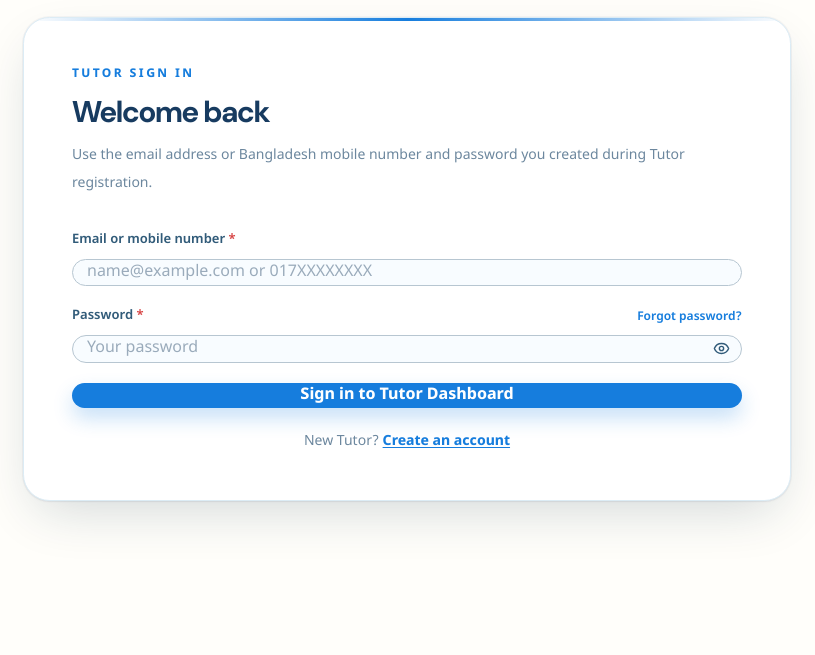
Test: Tutor sign-in transition › replaces the form with accessible Dashboard-entry feedback while the hand-off is pending
This screenshot has width=815, height=655.
Type "tutor@example.com" into the field labelled "Email or mobile number *" at (407, 273), box [72,259,742,286]
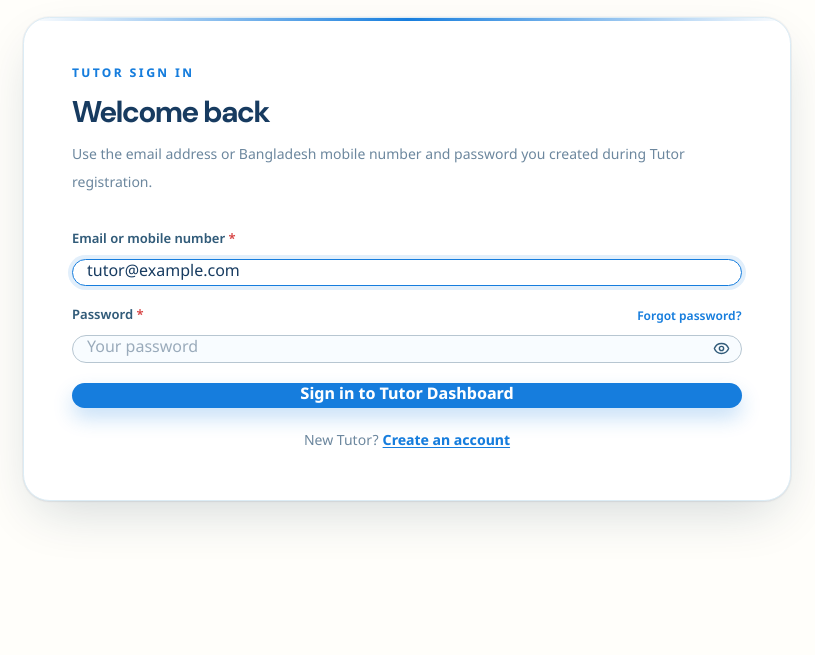
Type "correct-password" into the password field labelled "Password *" at (407, 349), box [72,335,742,363]
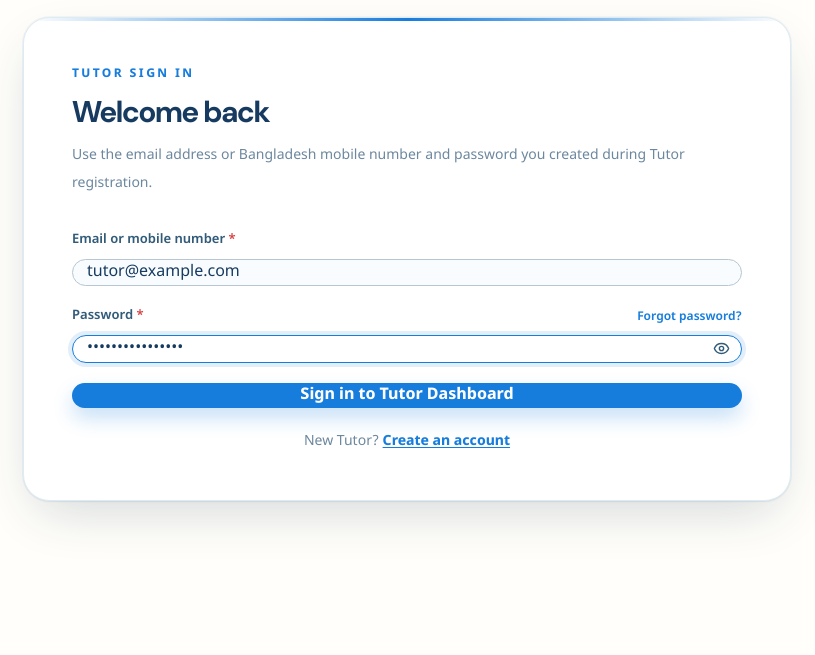
Click the button "Sign in to Tutor Dashboard" at (407, 396), box [72,383,742,408]
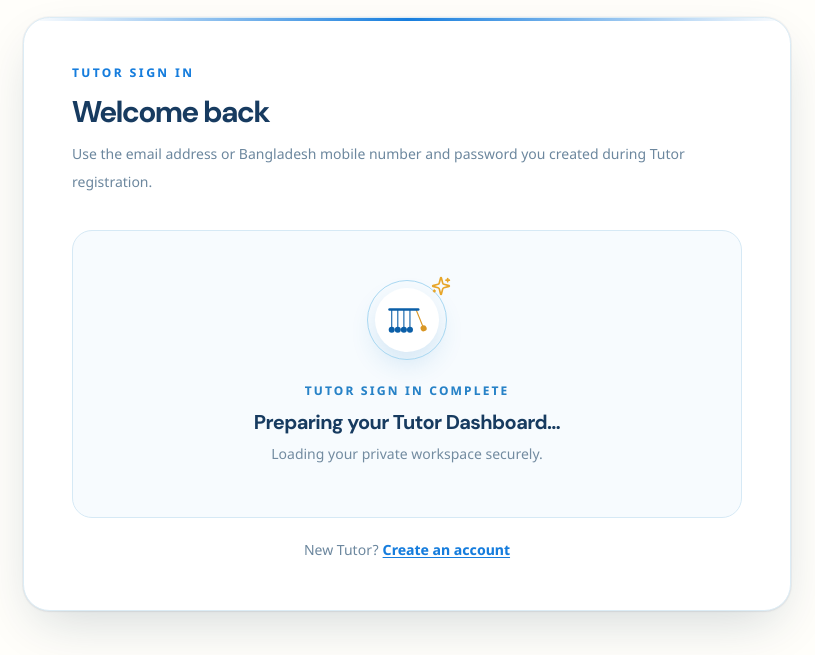
Expected: the message named "Preparing your Tutor workspace" is shown, [72,230,742,518]
Expected: the heading "Preparing your Tutor Dashboard…" is shown, [254,408,560,436]
Expected: the button "Sign in to Tutor Dashboard" is gone
